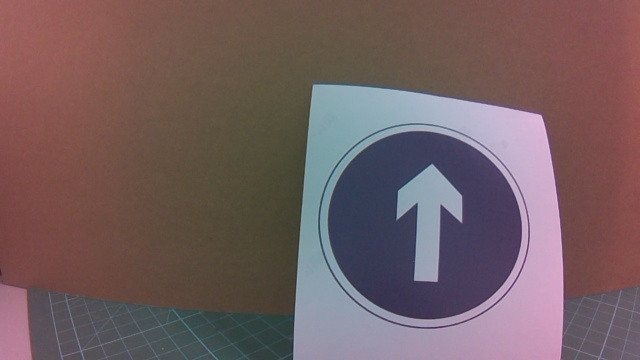forward: (342, 114, 508, 320)
